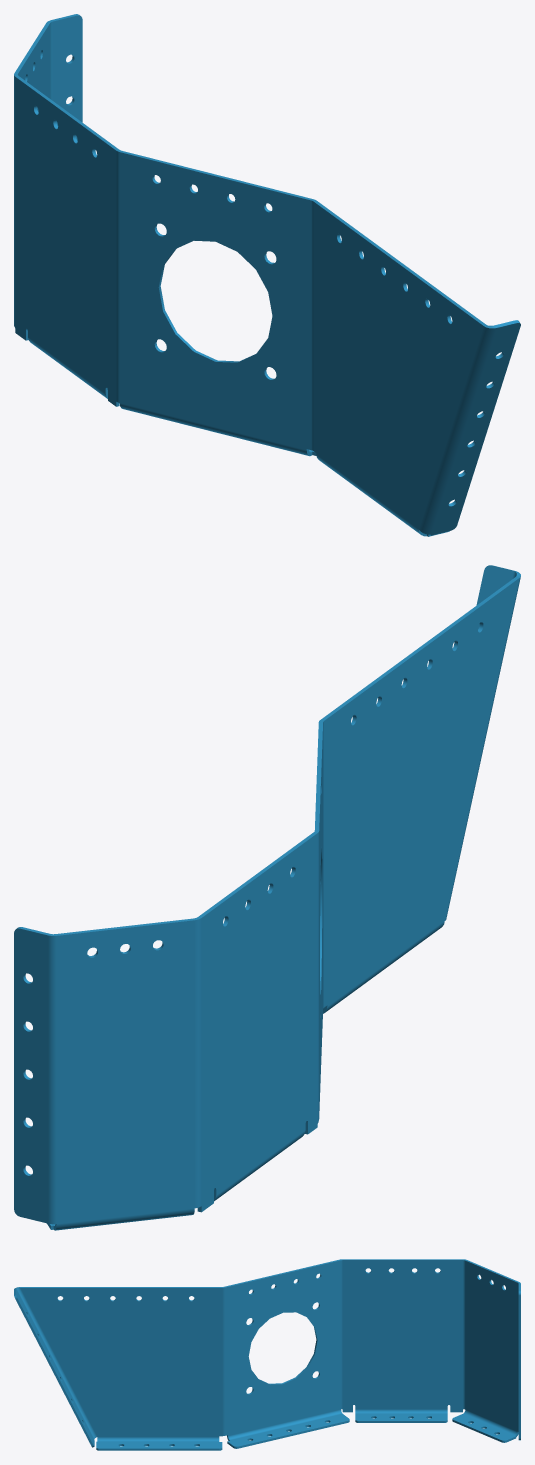
The picture shows the model from 3 angles, top to bottom: view 1: azimuth 30°, elevation 25°; view 2: azimuth 150°, elevation 25°; view 3: azimuth 270°, elevation 25°; orthographic projection. The views are drawn at different scales.
Visible parts, largest first — view 1: mesh12323, mesh12315, mesh12197, mesh12308, mesh12262, mesh12300, mesh12234, mesh12272, mesh12200, mesh12241, mesh12242; view 2: mesh12315, mesh12235, mesh12197, mesh12301, mesh12211, mesh12195, mesh12323, mesh12221, mesh12200, mesh12242, mesh12307; view 3: mesh12316, mesh12175, mesh12324, mesh12234, mesh12294, mesh12282, mesh12263, mesh12287, mesh12307, mesh12273, mesh12250, mesh12240 (+10 smaller).
Boxes of the visible parts, x1=… form: mesh12323: x1=119, y1=152, x2=311, y2=449; mesh12315: x1=313, y1=202, x2=483, y2=528; mesh12197: x1=15, y1=77, x2=116, y2=406; mesh12308: x1=431, y1=323, x2=520, y2=535; mesh12262: x1=418, y1=326, x2=497, y2=534; mesh12300: x1=53, y1=15, x2=82, y2=140; mesh12234: x1=18, y1=23, x2=50, y2=111; mesh12272: x1=119, y1=403, x2=308, y2=455; mesh12200: x1=116, y1=151, x2=119, y2=402; mesh12241: x1=311, y1=200, x2=313, y2=450; mesh12242: x1=314, y1=200, x2=486, y2=325; mesh12315: x1=324, y1=578, x2=519, y2=1007; mesh12235: x1=56, y1=920, x2=194, y2=1223; mesh12197: x1=201, y1=833, x2=317, y2=1211; mesh12301: x1=14, y1=928, x2=47, y2=1223; mesh12211: x1=48, y1=935, x2=56, y2=1224; mesh12195: x1=194, y1=918, x2=201, y2=1208; mesh12323: x1=319, y1=731, x2=322, y2=1110; mesh12221: x1=55, y1=1208, x2=194, y2=1230; mesh12200: x1=317, y1=831, x2=319, y2=1120; mesh12242: x1=321, y1=577, x2=518, y2=720; mesh12307: x1=476, y1=565, x2=513, y2=629; mesh12316: x1=20, y1=1288, x2=222, y2=1436; mesh12175: x1=342, y1=1260, x2=462, y2=1412; mesh12324: x1=225, y1=1260, x2=340, y2=1435; mesh12234: x1=465, y1=1260, x2=517, y2=1431; mesh12294: x1=227, y1=1414, x2=349, y2=1446; mesh12282: x1=96, y1=1441, x2=222, y2=1448; mesh12263: x1=16, y1=1287, x2=97, y2=1439; mesh12287: x1=355, y1=1413, x2=447, y2=1420; mesh12307: x1=16, y1=1289, x2=94, y2=1446; mesh12273: x1=228, y1=1409, x2=342, y2=1440; mesh12250: x1=97, y1=1437, x2=219, y2=1441; mesh12240: x1=222, y1=1287, x2=225, y2=1436.
Bounding box in the file's own units: 0.0506 × 0.0979 × 0.2898.
